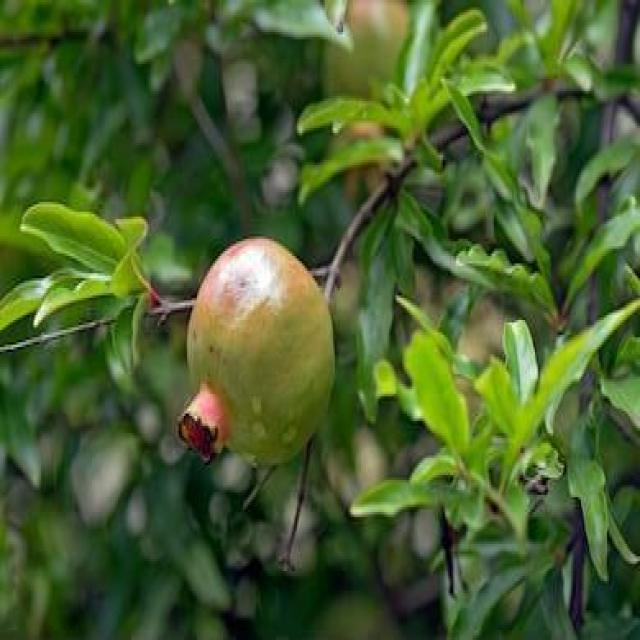Pomegranate: (179, 233, 337, 471)
